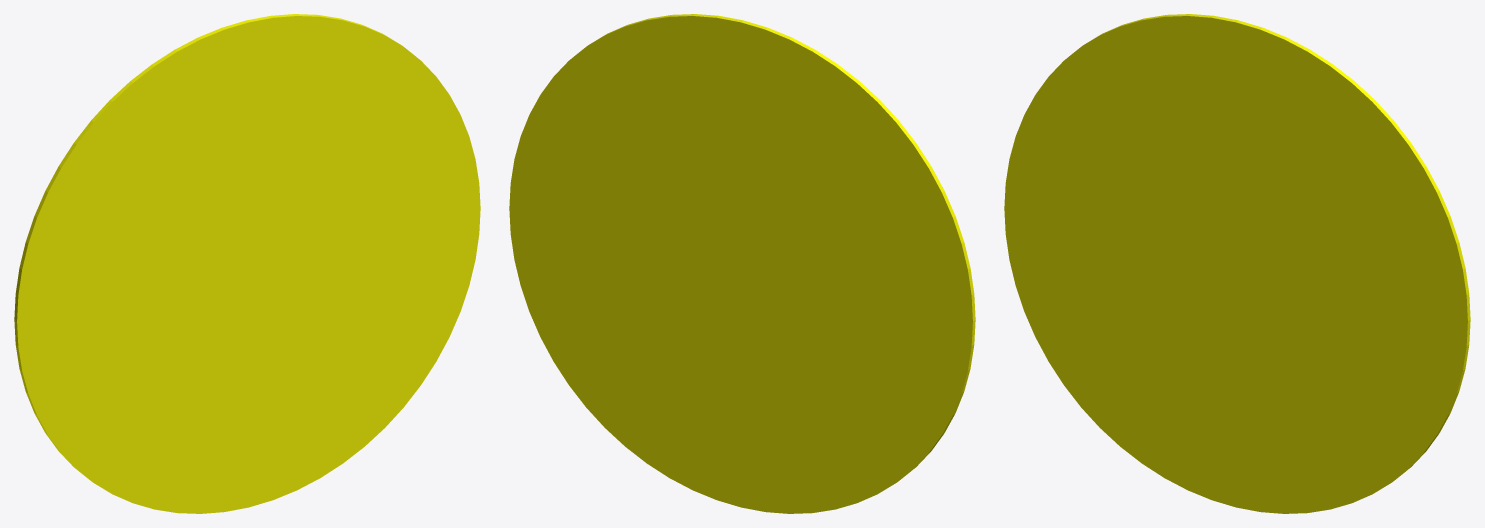
File: Lingkaran.fbx
The picture shows the model from 3 angles, left to right: view 1: azimuth 30°, elevation 25°; view 2: azimuth 150°, elevation 25°; view 3: azimuth 330°, elevation 25°; orthographic projection.
Parts seen in each view (by area): view 1: Circle; view 2: Circle; view 3: Circle.
Boxes of the visible parts, bbox=[...] form: Circle: bbox=[14, 14, 480, 513]; Circle: bbox=[509, 14, 975, 513]; Circle: bbox=[1004, 14, 1470, 513].
Size of the model in its own units: 200 by 200 by 2.
